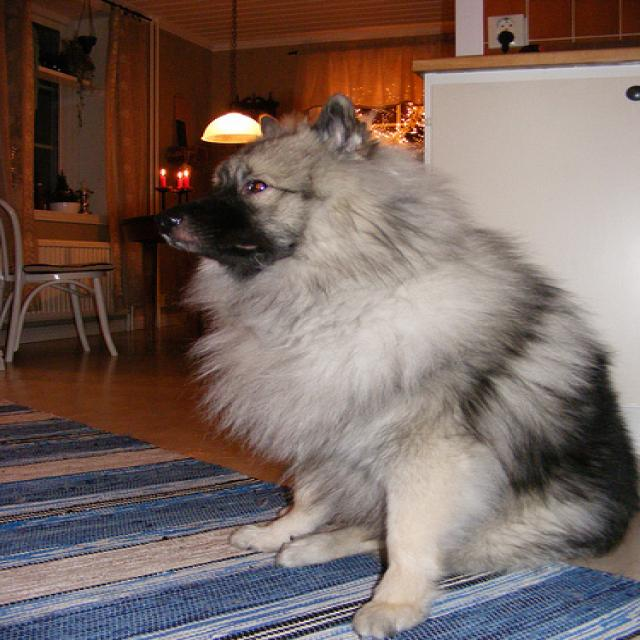dog-keeshond: (145, 86, 637, 637)
